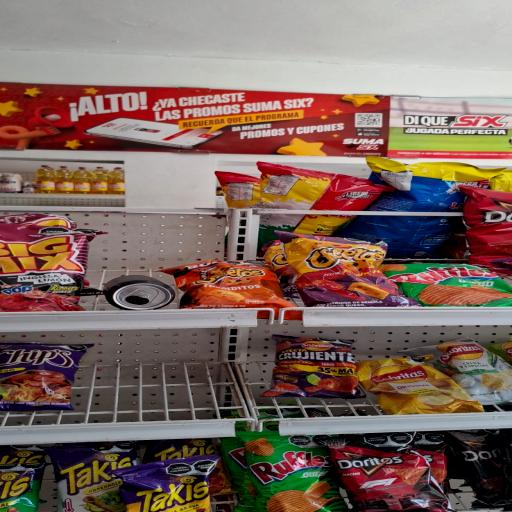LATA: (94, 272, 192, 314)
